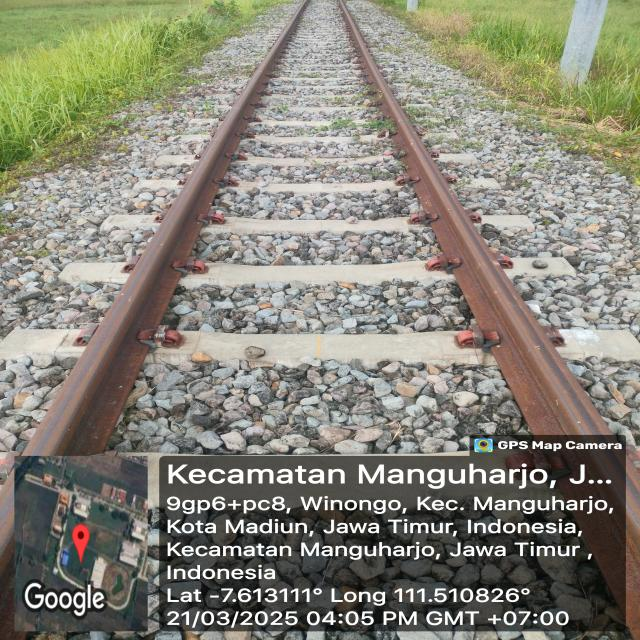rail-detection: (340, 0, 625, 610), (25, 0, 308, 455)
